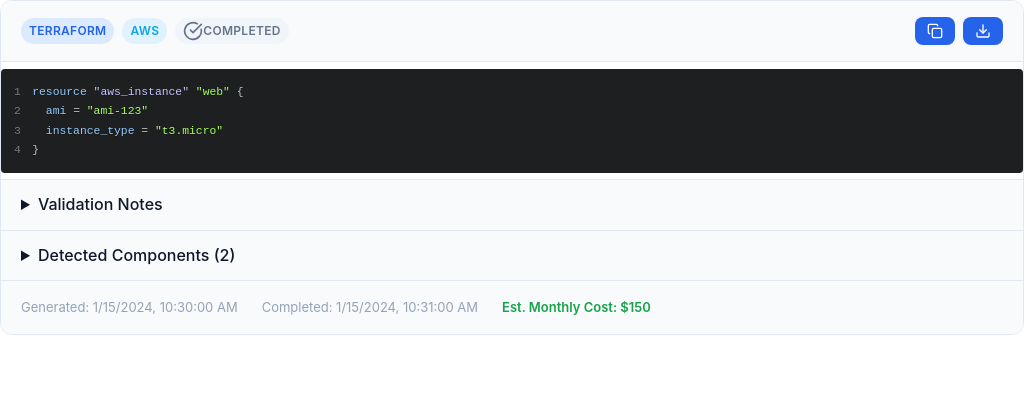
it: TemplateDisplay › shows validation notes when present
The width and height of the screenshot is (1024, 393).
Click the heading "Validation Notes" at (100, 204), box [38, 194, 163, 214]
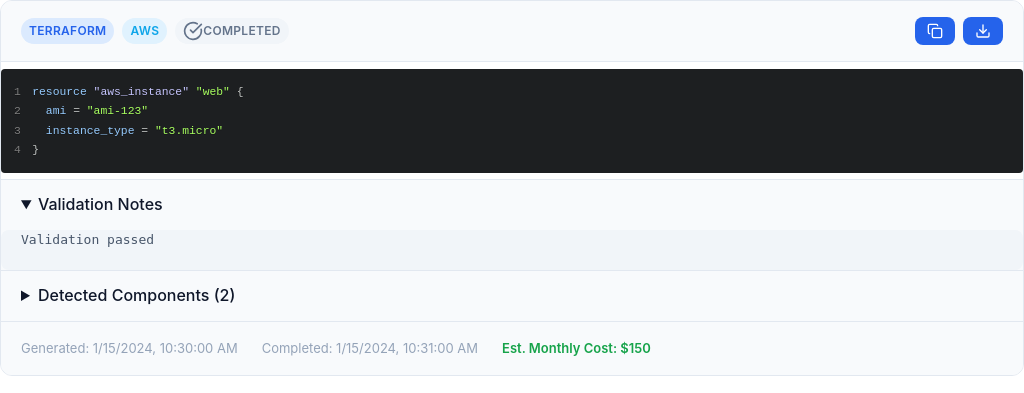
expect the text "Validation passed" is shown: met, box [1, 230, 1023, 270]
